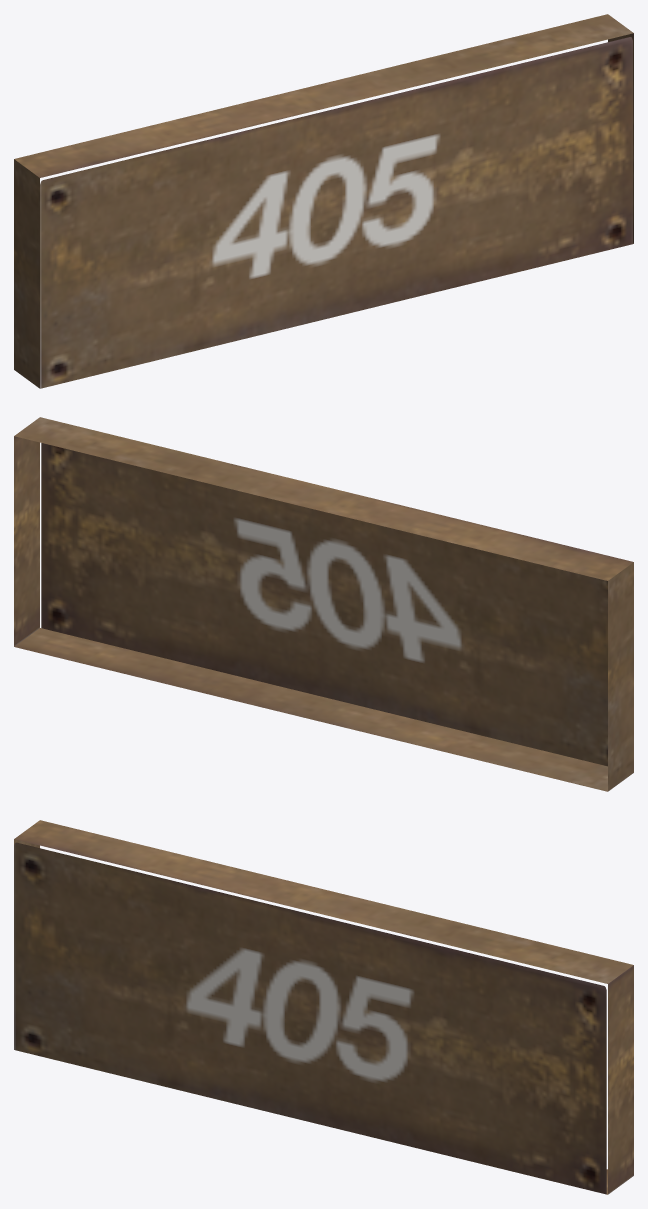
The model's file is 405_sign.FBX.
3 renders of one model, top to bottom at view 1: azimuth 30°, elevation 25°; view 2: azimuth 150°, elevation 25°; view 3: azimuth 330°, elevation 25°, orthographic.
Parts seen in each view (by area): view 1: 405_sign; view 2: 405_sign; view 3: 405_sign.
Boxes of the visible parts, x1,y1,x2,y2 form: 405_sign: [14, 14, 633, 388]; 405_sign: [14, 417, 633, 791]; 405_sign: [14, 820, 633, 1194].
Size of the model in its own units: 68.28 by 23.15 by 5.19.
